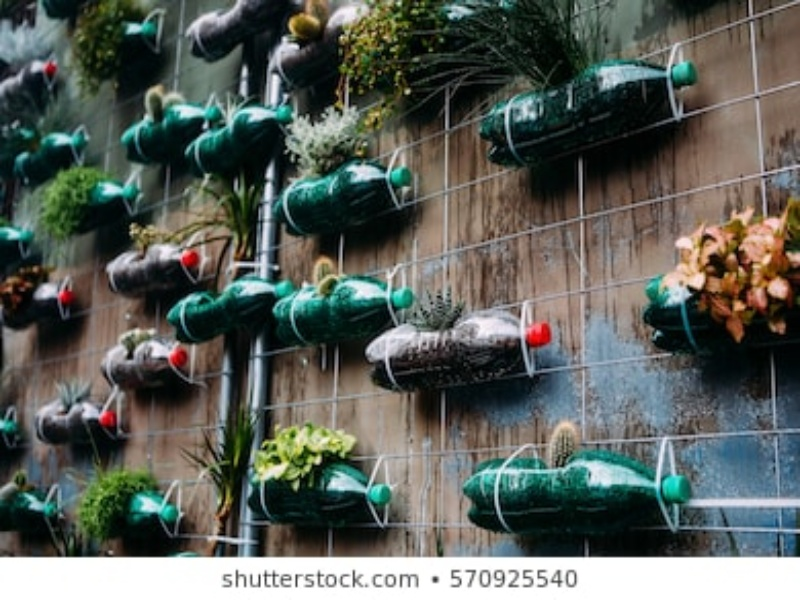bottle-cap: (659, 471, 687, 507), (364, 477, 392, 513), (522, 319, 550, 355), (384, 163, 414, 195), (670, 60, 698, 90), (159, 497, 180, 525), (97, 405, 116, 433), (277, 99, 294, 130), (178, 247, 198, 272), (171, 343, 190, 366), (42, 498, 59, 518)
plastic-bottle: (475, 57, 703, 165), (455, 449, 689, 532), (365, 310, 554, 388), (273, 158, 420, 236), (242, 451, 393, 525), (268, 278, 416, 340), (184, 102, 295, 178), (118, 94, 225, 166), (184, 1, 281, 66), (106, 242, 202, 293), (36, 396, 121, 442), (100, 342, 190, 380), (72, 176, 140, 226), (13, 279, 77, 332), (120, 484, 186, 534), (2, 490, 65, 525)
